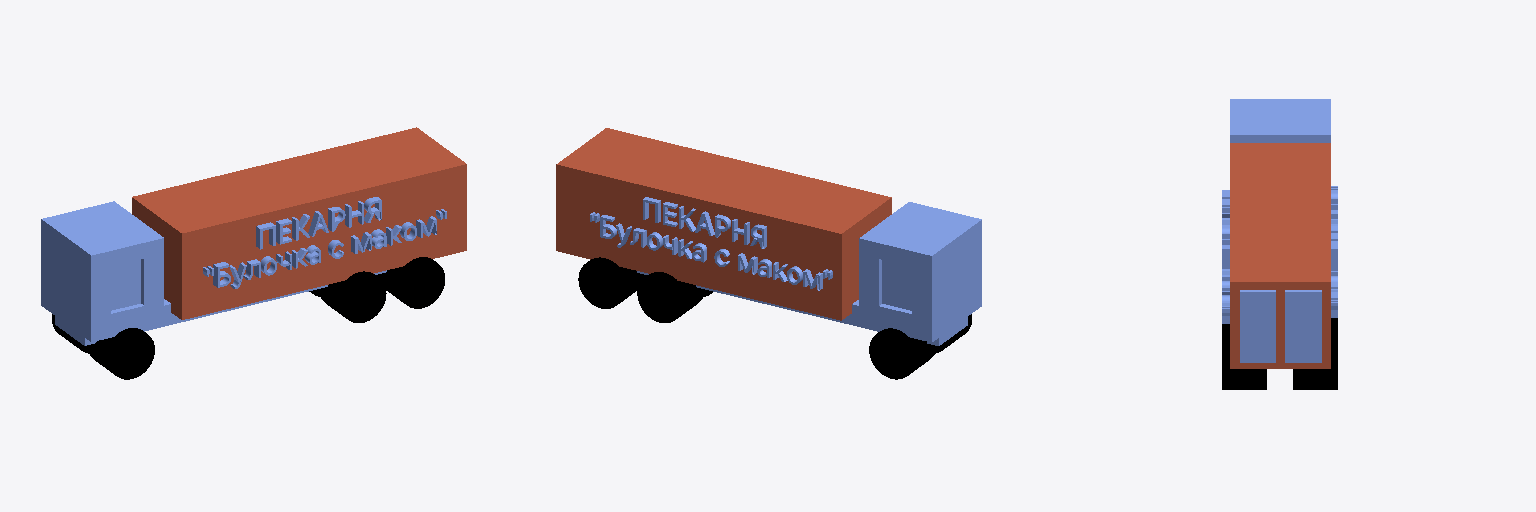
The model's file is Truck.obj.
The picture shows the model from 3 angles: view 1: azimuth 30°, elevation 25°; view 2: azimuth 150°, elevation 25°; view 3: azimuth 270°, elevation 25°; orthographic projection.
Visible parts, largest first — view 1: Cube.004, Cube.005, ПЕКАРНЯ_"Булочка_с_маком".001, Cylinder.062, Cylinder.065, Cylinder.064, Cube.006; view 2: Cube.004, Cube.005, ПЕКАРНЯ_"Булочка_с_маком".002, Cylinder.066, Cylinder.061, Cylinder.067, Cube.006; view 3: Cube.004, Cube.005, Cylinder.064, Cylinder.067, ПЕКАРНЯ_"Булочка_с_маком".001, ПЕКАРНЯ_"Булочка_с_маком".002.
Part boxes in pixels (left/top/right/bottom): Cube.004: left=132, top=127, right=466, bottom=319; Cube.005: left=41, top=201, right=163, bottom=341; ПЕКАРНЯ_"Булочка_с_маком".001: left=203, top=197, right=446, bottom=288; Cylinder.062: left=87, top=328, right=154, bottom=379; Cylinder.065: left=319, top=271, right=386, bottom=322; Cylinder.064: left=378, top=257, right=444, bottom=308; Cube.006: left=55, top=270, right=386, bottom=345; Cube.004: left=556, top=128, right=891, bottom=320; Cube.005: left=859, top=202, right=981, bottom=342; ПЕКАРНЯ_"Булочка_с_маком".002: left=590, top=197, right=832, bottom=290; Cylinder.066: left=637, top=272, right=704, bottom=322; Cylinder.061: left=869, top=328, right=936, bottom=379; Cylinder.067: left=578, top=257, right=645, bottom=308; Cube.006: left=637, top=271, right=967, bottom=345; Cube.004: left=1230, top=143, right=1330, bottom=368; Cube.005: left=1230, top=99, right=1330, bottom=142; Cylinder.064: left=1222, top=338, right=1266, bottom=389; Cylinder.067: left=1293, top=338, right=1337, bottom=389; ПЕКАРНЯ_"Булочка_с_маком".001: left=1222, top=190, right=1229, bottom=323; ПЕКАРНЯ_"Булочка_с_маком".002: left=1331, top=186, right=1337, bottom=317.
Size of the model in its own units: 2.66 by 0.8663 by 0.7104.